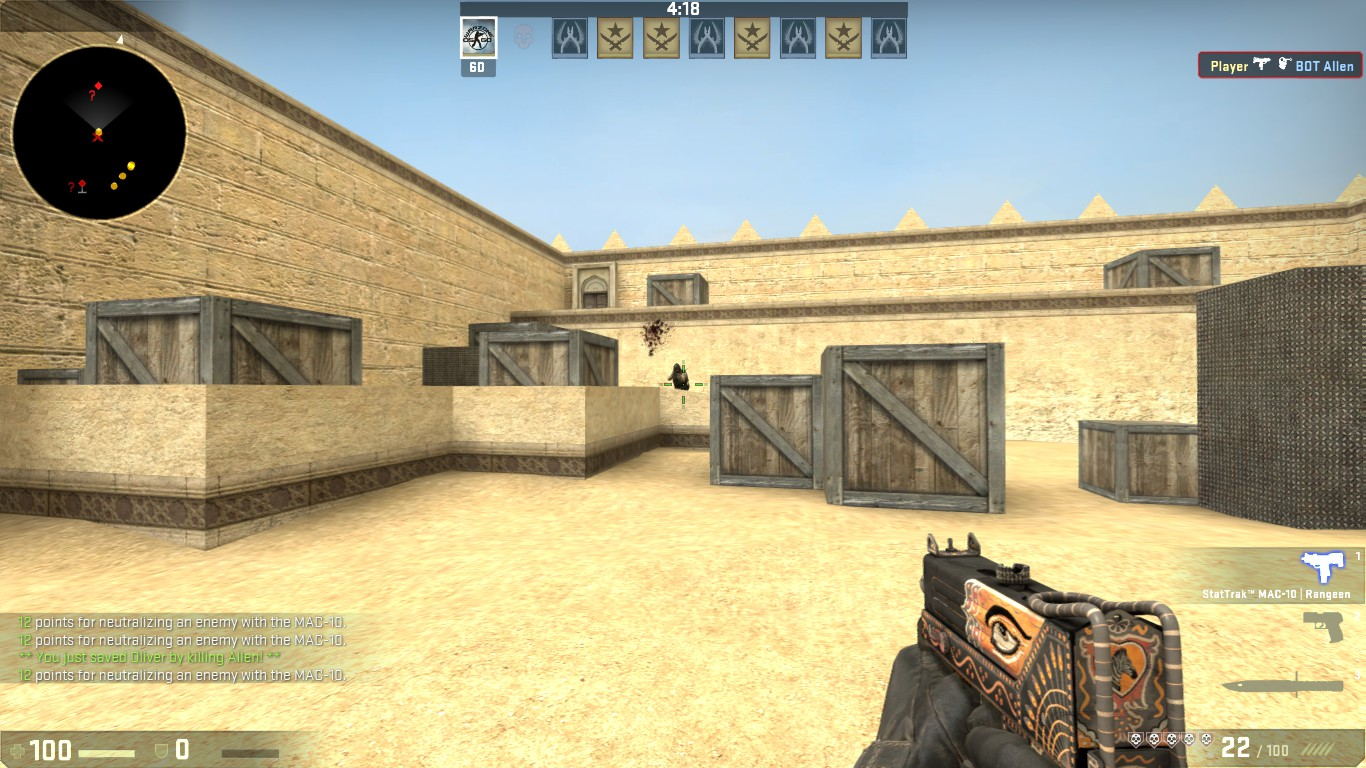c: (670, 364, 690, 391)
ch: (672, 362, 682, 374)
